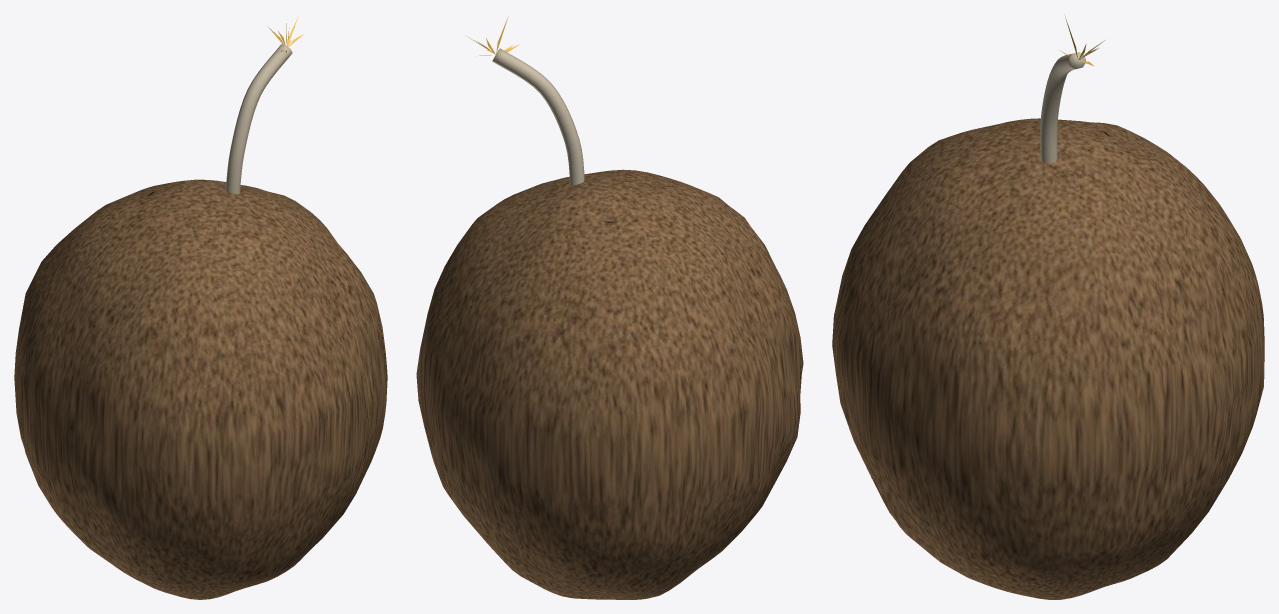
Rendered from Weapon_Coconut.glb.
3 views of the same model, side by side, from view 1: azimuth 30°, elevation 25°; view 2: azimuth 150°, elevation 25°; view 3: azimuth 270°, elevation 25° (orthographic). The views are drawn at different scales.
Parts seen in each view (by area): view 1: Weapon_Coconut_Game; view 2: Weapon_Coconut_Game; view 3: Weapon_Coconut_Game.
Boxes of the visible parts, x1,y1,x2,y2 form: Weapon_Coconut_Game: (14, 15, 387, 599); Weapon_Coconut_Game: (416, 16, 803, 599); Weapon_Coconut_Game: (832, 17, 1264, 599).
Bounding box in the file's own units: 0.1206 × 0.1921 × 0.1212.
1 material, 1 textured.
